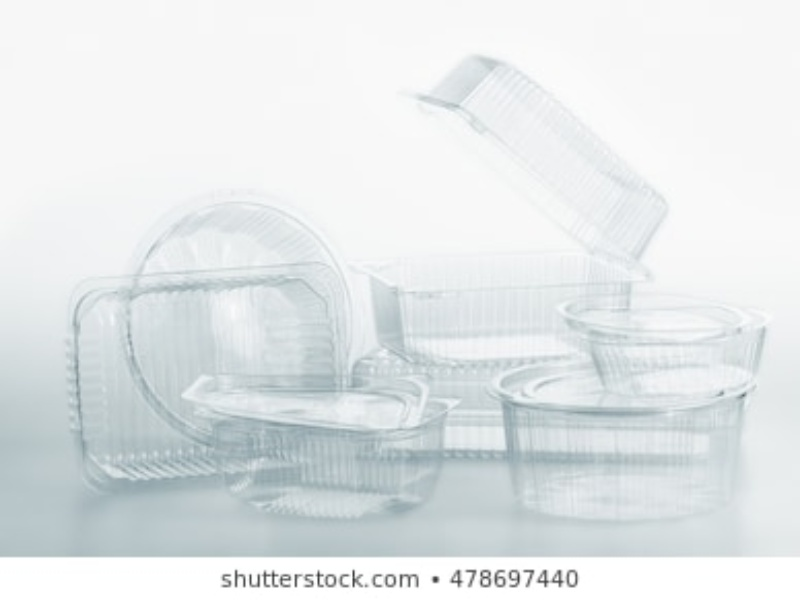plastic-container: (391, 44, 691, 266), (54, 261, 350, 484), (110, 195, 358, 450), (489, 366, 766, 525), (187, 370, 449, 521), (348, 254, 659, 362), (550, 284, 772, 391)
